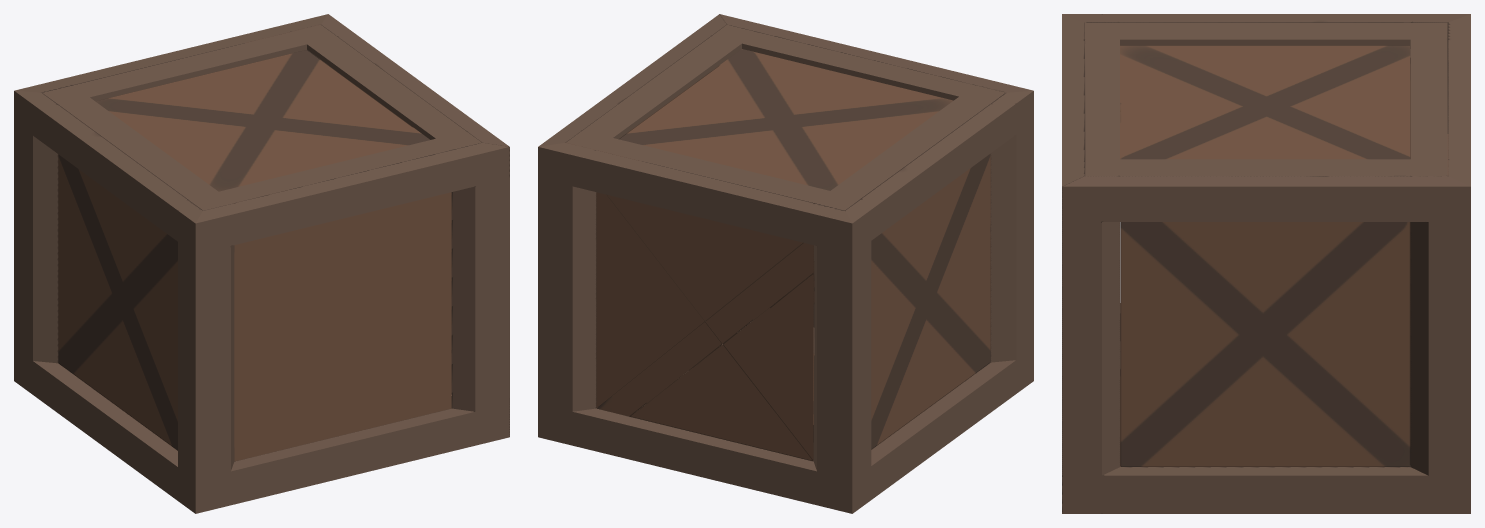
The model's file is boxx.fbx.
3 views of the same model, side by side, from view 1: azimuth 30°, elevation 25°; view 2: azimuth 150°, elevation 25°; view 3: azimuth 270°, elevation 25° (orthographic). The views are drawn at different scales.
Parts seen in each view (by area): view 1: BoxClosed; view 2: BoxClosed; view 3: BoxClosed.
Part boxes in pixels (x1,y1,x2,y2): BoxClosed: (14,14,509,513); BoxClosed: (538,14,1033,513); BoxClosed: (1062,14,1470,513).
Bounding box in the file's own units: 2.39 × 2.13 × 2.39.
